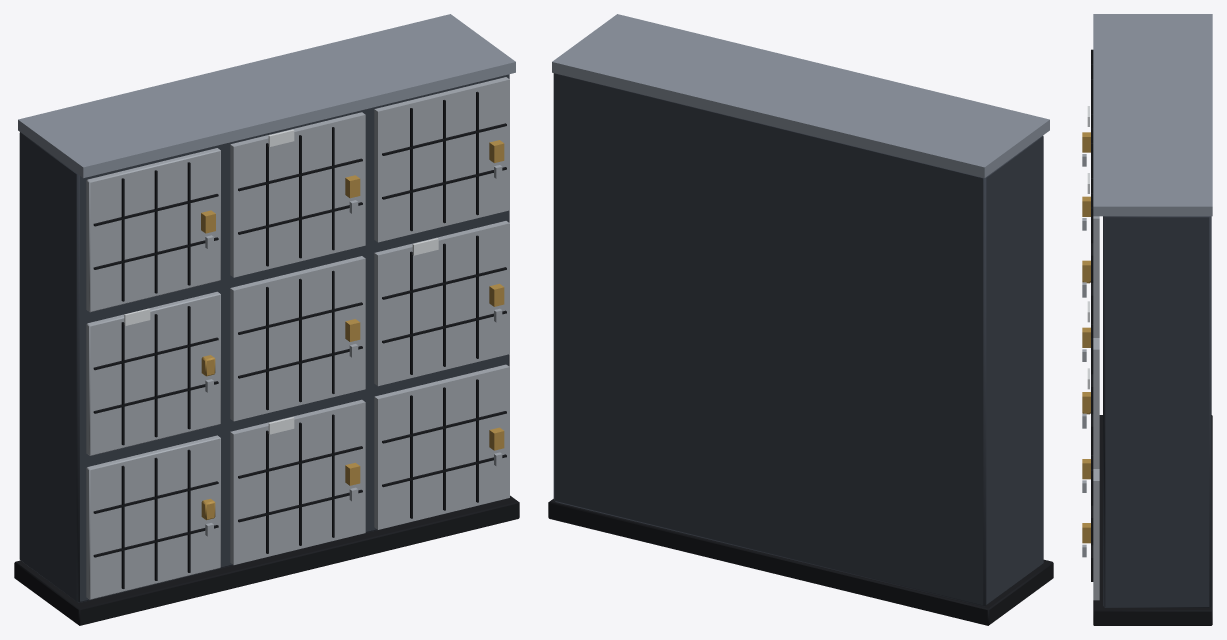
The model's file is shelving_cage_lockers.glb.
The picture shows the model from 3 angles, left to right: view 1: azimuth 30°, elevation 25°; view 2: azimuth 150°, elevation 25°; view 3: azimuth 270°, elevation 25°; orthographic projection. The views are drawn at different scales.
Visible parts, largest first — view 1: shelving_cage_lockers; view 2: shelving_cage_lockers; view 3: shelving_cage_lockers.
Boxes of the visible parts, x1,y1,x2,y2 form: shelving_cage_lockers: (14,14,519,625); shelving_cage_lockers: (548,14,1053,625); shelving_cage_lockers: (1082,14,1212,625).
Bounding box in the file's own units: 2.14 × 2.12 × 0.6.
